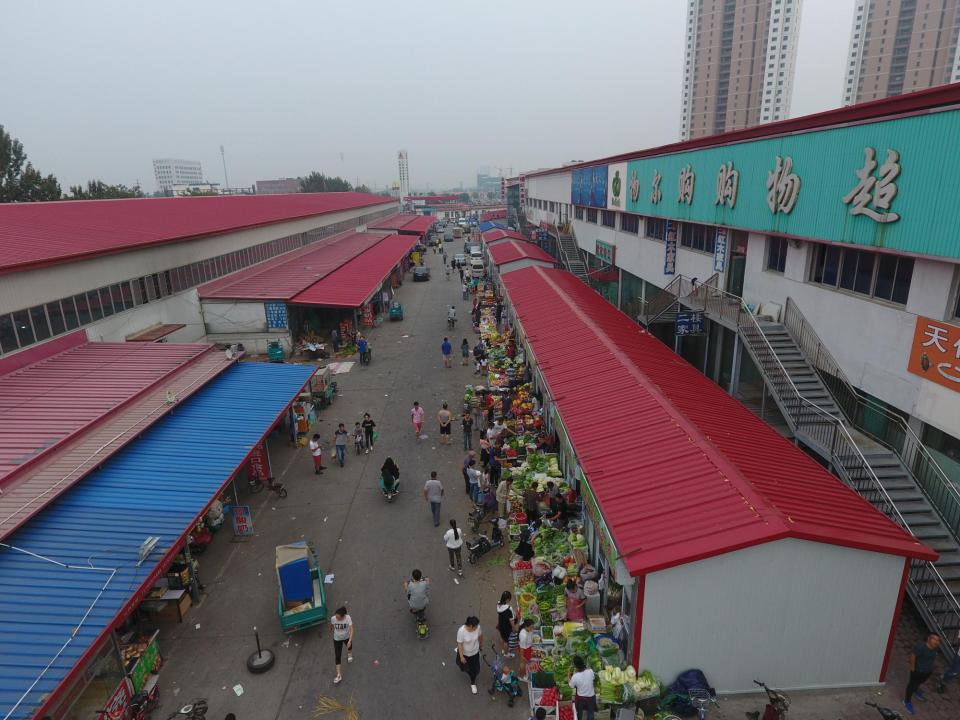car: (412, 266, 431, 282), (408, 244, 426, 254), (452, 253, 466, 265), (464, 242, 478, 253), (428, 236, 438, 246), (462, 226, 471, 233), (436, 226, 444, 233), (444, 236, 453, 241)
truck: (451, 227, 460, 239)
van: (472, 261, 487, 279), (469, 252, 483, 265), (470, 245, 482, 258)
